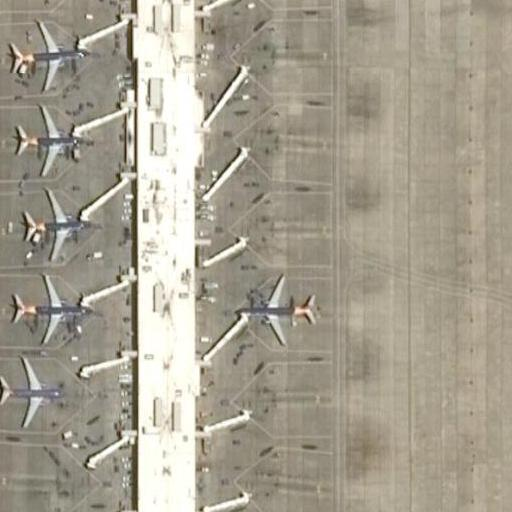Aircraft: (222, 275, 321, 351), (5, 270, 106, 344), (0, 20, 98, 95), (8, 100, 101, 179), (8, 191, 102, 265), (0, 355, 80, 432), (503, 477, 512, 512)
